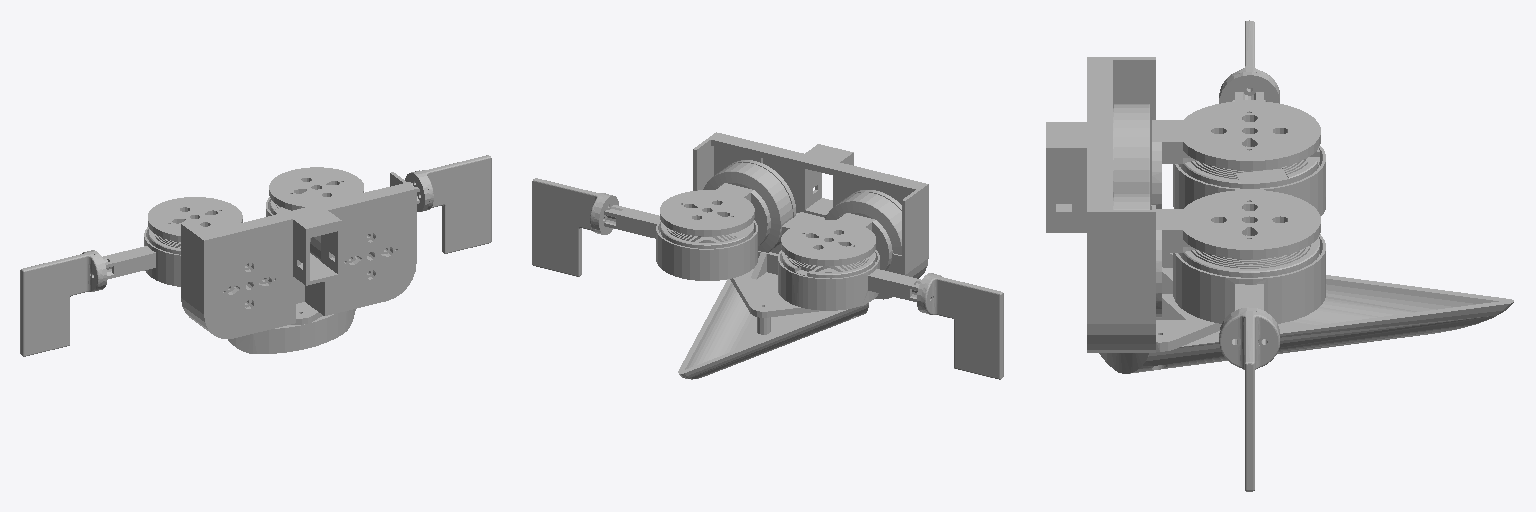
The robot description file, URDF, robot "robot_urdf":
<?xml version="1.0" encoding="utf-8"?>
<!-- This URDF was automatically created by SolidWorks to URDF Exporter! Originally created by [author] ([email redacted]) 
     Commit Version: 1.6.0-4-g7f85cfe  Build Version: 1.6.7995.38578
     For more information, please see http://wiki.ros.org/sw_urdf_exporter -->
<robot
  name="robot_urdf">
  <link
    name="base_link">
    <inertial>
      <origin
        xyz="4.37705665220361E-05 0.0175806187997978 0.043660357563639"
        rpy="0 0 0" />
      <mass
        value="0.255698880861826" />
      <inertia
        ixx="0.000411144132403491"
        ixy="4.16294585913493E-07"
        ixz="-4.7645790687015E-07"
        iyy="0.000682757102532273"
        iyz="5.4010758392147E-05"
        izz="0.000775509602928662" />
    </inertial>
    <visual>
      <origin
        xyz="0 0 0"
        rpy="0 0 0" />
      <geometry>
        <mesh
          filename="package://meshes/base_link.STL" />
      </geometry>
      <material
        name="">
        <color
          rgba="0.752941176470588 0.752941176470588 0.752941176470588 1" />
      </material>
    </visual>
    <collision>
      <origin
        xyz="0 0 0"
        rpy="0 0 0" />
      <geometry>
        <mesh
          filename="package://meshes/base_link.STL" />
      </geometry>
    </collision>
  </link>
  <link
    name="Link2_left">
    <inertial>
      <origin
        xyz="2.54522695908102E-05 0.0349781563709796 0.0046026953917245"
        rpy="0 0 0" />
      <mass
        value="0.123181820863459" />
      <inertia
        ixx="5.66368461066979E-05"
        ixy="3.58016201067556E-08"
        ixz="6.06632395769424E-08"
        iyy="6.43979767375976E-05"
        iyz="-6.07198869883702E-06"
        izz="6.06058466511572E-05" />
    </inertial>
    <visual>
      <origin
        xyz="0 0 0"
        rpy="0 0 0" />
      <geometry>
        <mesh
          filename="package://meshes/Link2_left.STL" />
      </geometry>
      <material
        name="">
        <color
          rgba="0.752941176470588 0.752941176470588 0.752941176470588 1" />
      </material>
    </visual>
    <collision>
      <origin
        xyz="0 0 0"
        rpy="0 0 0" />
      <geometry>
        <mesh
          filename="package://meshes/Link2_left.STL" />
      </geometry>
    </collision>
  </link>
  <joint
    name="left_adduction"
    type="continuous">
    <origin
      xyz="-0.0515 -0.014 0.0645"
      rpy="0 0 0" />
    <parent
      link="base_link" />
    <child
      link="Link2_left" />
    <axis
      xyz="0 1 0" />
  </joint>
  <link
    name="Link3_left">
    <inertial>
      <origin
        xyz="-0.0213662641195734 -4.70775350335517E-05 -0.00438523576566541"
        rpy="0 0 0" />
      <mass
        value="0.135976387780092" />
      <inertia
        ixx="5.05901475484616E-05"
        ixy="2.80419075519887E-08"
        ixz="2.28819422443921E-06"
        iyy="8.93087973179367E-05"
        iyz="6.8993022599937E-08"
        izz="0.000113081889749854" />
    </inertial>
    <visual>
      <origin
        xyz="0 0 0"
        rpy="0 0 0" />
      <geometry>
        <mesh
          filename="package://meshes/Link3_left.STL" />
      </geometry>
      <material
        name="">
        <color
          rgba="0.752941176470588 0.752941176470588 0.752941176470588 1" />
      </material>
    </visual>
    <collision>
      <origin
        xyz="0 0 0"
        rpy="0 0 0" />
      <geometry>
        <mesh
          filename="package://meshes/Link3_left.STL" />
      </geometry>
    </collision>
  </link>
  <joint
    name="left_sweeping"
    type="continuous">
    <origin
      xyz="0 0.07979 0"
      rpy="0 0 0" />
    <parent
      link="Link2_left" />
    <child
      link="Link3_left" />
    <axis
      xyz="0 0 -1" />
  </joint>
  <link
    name="Link2_right">
    <inertial>
      <origin
        xyz="2.54522695907755E-05 0.0349781563709795 0.0046026953917245"
        rpy="0 0 0" />
      <mass
        value="0.123181820863459" />
      <inertia
        ixx="5.6636846106698E-05"
        ixy="3.58016201067483E-08"
        ixz="6.06632395769338E-08"
        iyy="6.43979767375976E-05"
        iyz="-6.07198869883701E-06"
        izz="6.06058466511573E-05" />
    </inertial>
    <visual>
      <origin
        xyz="0 0 0"
        rpy="0 0 0" />
      <geometry>
        <mesh
          filename="package://meshes/Link2_right.STL" />
      </geometry>
      <material
        name="">
        <color
          rgba="0.752941176470588 0.752941176470588 0.752941176470588 1" />
      </material>
    </visual>
    <collision>
      <origin
        xyz="0 0 0"
        rpy="0 0 0" />
      <geometry>
        <mesh
          filename="package://meshes/Link2_right.STL" />
      </geometry>
    </collision>
  </link>
  <joint
    name="right_adduction"
    type="continuous">
    <origin
      xyz="0.0515 -0.014 0.0645"
      rpy="0 0 0" />
    <parent
      link="base_link" />
    <child
      link="Link2_right" />
    <axis
      xyz="0 1 0" />
  </joint>
  <link
    name="Link3_right">
    <inertial>
      <origin
        xyz="0.0213662641195733 4.7077535033635E-05 -0.00438523576566535"
        rpy="0 0 0" />
      <mass
        value="0.135976387780092" />
      <inertia
        ixx="5.05901475484615E-05"
        ixy="2.80419075519388E-08"
        ixz="-2.28819422443922E-06"
        iyy="8.93087973179365E-05"
        iyz="-6.89930225999797E-08"
        izz="0.000113081889749854" />
    </inertial>
    <visual>
      <origin
        xyz="0 0 0"
        rpy="0 0 0" />
      <geometry>
        <mesh
          filename="package://meshes/Link3_right.STL" />
      </geometry>
      <material
        name="">
        <color
          rgba="0.752941176470588 0.752941176470588 0.752941176470588 1" />
      </material>
    </visual>
    <collision>
      <origin
        xyz="0 0 0"
        rpy="0 0 0" />
      <geometry>
        <mesh
          filename="package://meshes/Link3_right.STL" />
      </geometry>
    </collision>
  </link>
  <joint
    name="right_sweeping"
    type="continuous">
    <origin
      xyz="0 0.07979 0"
      rpy="0 0 0" />
    <parent
      link="Link2_right" />
    <child
      link="Link3_right" />
    <axis
      xyz="0 0 -1" />
  </joint>
</robot>

--- What the picture shows (computed from the rendered views, not written in the file) ---
Views: 3 orthographic renders of the robot side by side, from view 1: azimuth 30°, elevation 25°; view 2: azimuth 150°, elevation 25°; view 3: azimuth 270°, elevation 25°.
Model robot_urdf with 5 links and 4 joints (4 continuous), rooted at base_link, posed all joints at 0.
Visible links, largest first — view 1: base_link, Link3_left, Link3_right, Link2_right, Link2_left; view 2: base_link, Link3_right, Link3_left, Link2_right, Link2_left; view 3: base_link, Link3_right, Link2_left, Link2_right, Link3_left.
Boxes of the visible links, box(x1,y1,x2,y2) form: base_link: box(181, 172, 416, 353); Link3_left: box(20, 227, 180, 356); Link3_right: box(266, 155, 491, 253); Link2_right: box(269, 167, 368, 260); Link2_left: box(148, 197, 246, 284); base_link: box(678, 132, 928, 379); Link3_right: box(532, 178, 757, 280); Link3_left: box(778, 250, 1003, 379); Link2_right: box(660, 160, 796, 252); Link2_left: box(781, 190, 901, 270); base_link: box(1046, 57, 1513, 373); Link3_right: box(1173, 234, 1325, 491); Link2_left: box(1113, 101, 1320, 208); Link2_right: box(1113, 190, 1320, 317); Link3_left: box(1173, 20, 1325, 215).
Size in the robot's own frame: 0.397 by 0.2292 by 0.11 metres.
5 mesh visuals loaded from 5 distinct referenced files (5 binary STL).